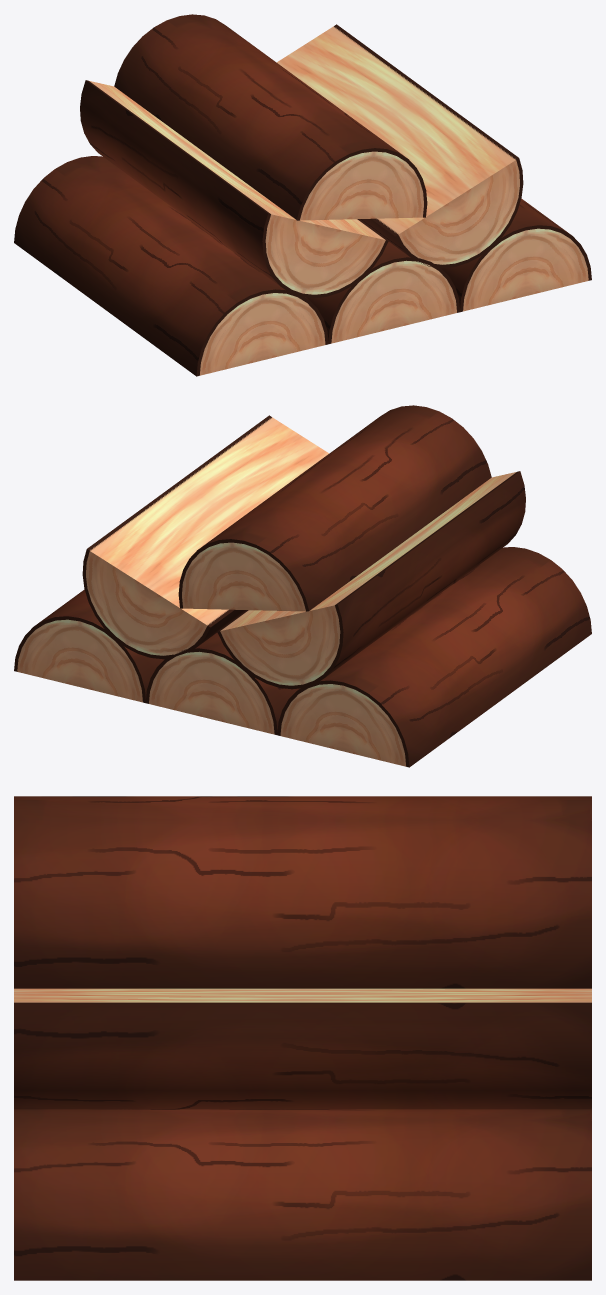
Rendered from Pilha2.fbx.
3 views of the same model, one above another, from view 1: azimuth 30°, elevation 25°; view 2: azimuth 150°, elevation 25°; view 3: azimuth 270°, elevation 25° (orthographic). The views are drawn at different scales.
Visible parts, largest first — view 1: Pilha2; view 2: Pilha2; view 3: Pilha2.
Boxes of the visible parts, x1,y1,x2,y2 form: Pilha2: (14, 14, 591, 376); Pilha2: (14, 405, 591, 767); Pilha2: (14, 796, 591, 1280).
Size of the model in its own units: 111 by 50.1 by 88.88.
Materials: 1 (1 with a texture image).
